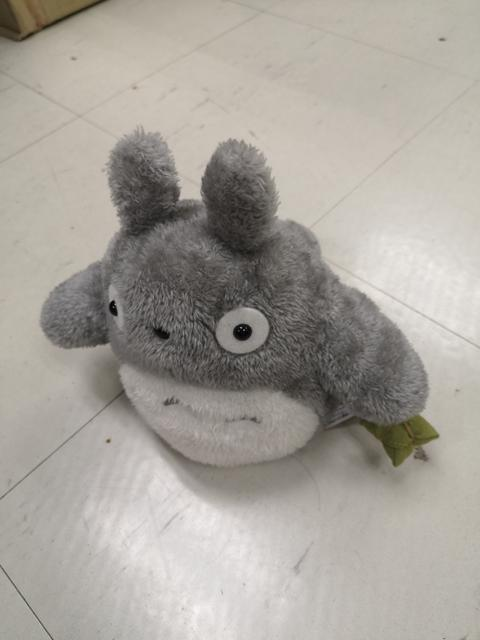totoro: (32, 122, 445, 476)
